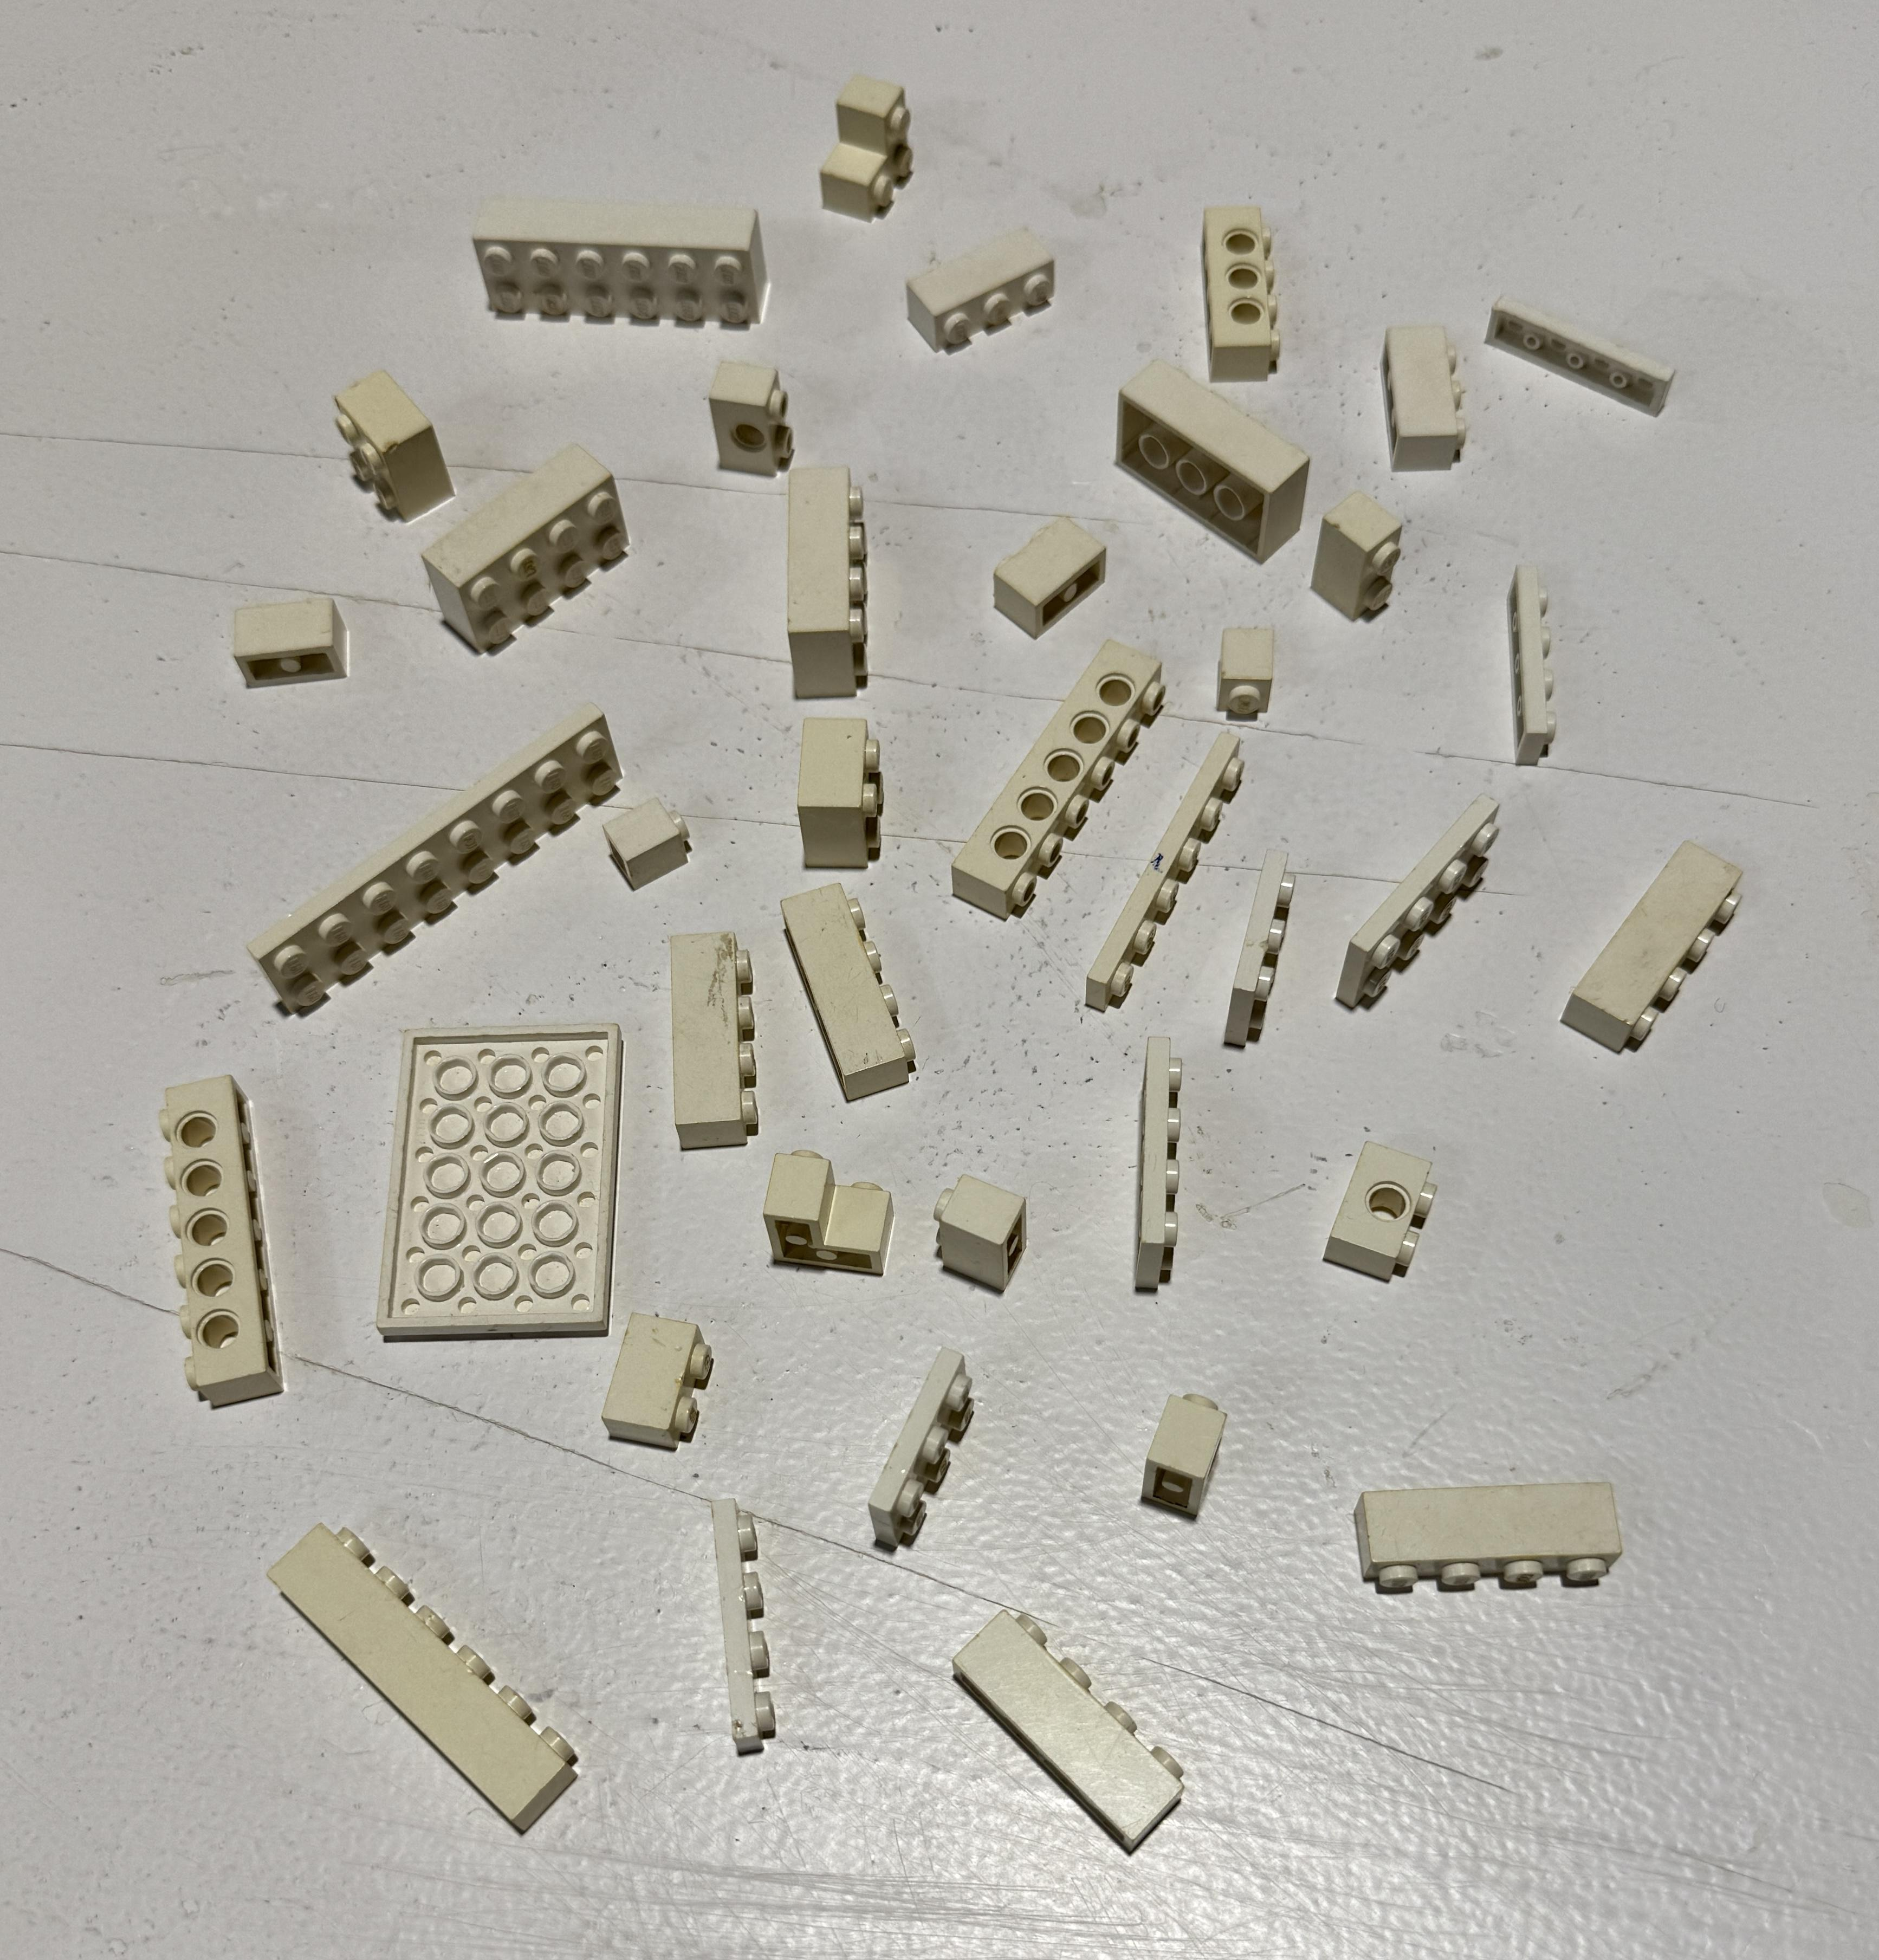brick_1x1: (1127, 1374, 1268, 1550), (588, 780, 707, 901), (1197, 607, 1302, 737)
brick_1x2: (569, 1288, 747, 1470), (969, 497, 1156, 660), (184, 577, 392, 719), (1309, 1120, 1464, 1304), (677, 329, 835, 507), (920, 1153, 1050, 1330), (1303, 481, 1410, 639)
brick_1x3: (905, 215, 1086, 369), (1363, 296, 1484, 492)
brick_1x4: (948, 1589, 1226, 1885), (1303, 1465, 1692, 1631), (1536, 822, 1779, 1073), (765, 863, 941, 1109), (646, 912, 780, 1188), (1156, 177, 1323, 395), (766, 437, 894, 705)
brick_2x2: (303, 339, 469, 539), (759, 700, 910, 884)
brick_2x4: (395, 427, 651, 656), (1086, 339, 1335, 565)
